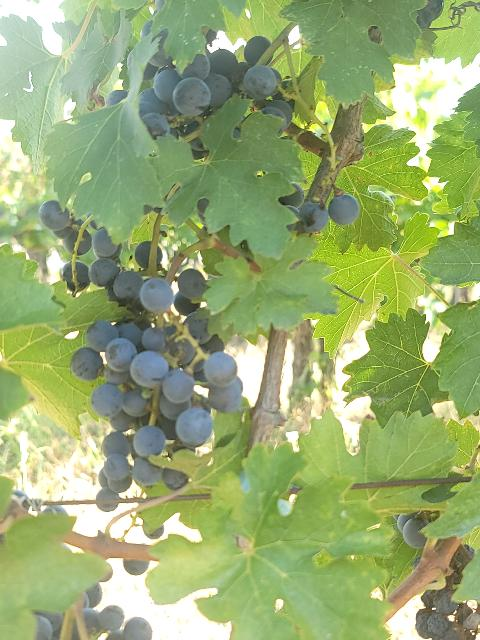grapes: (70, 278, 212, 490), (138, 36, 294, 139)
